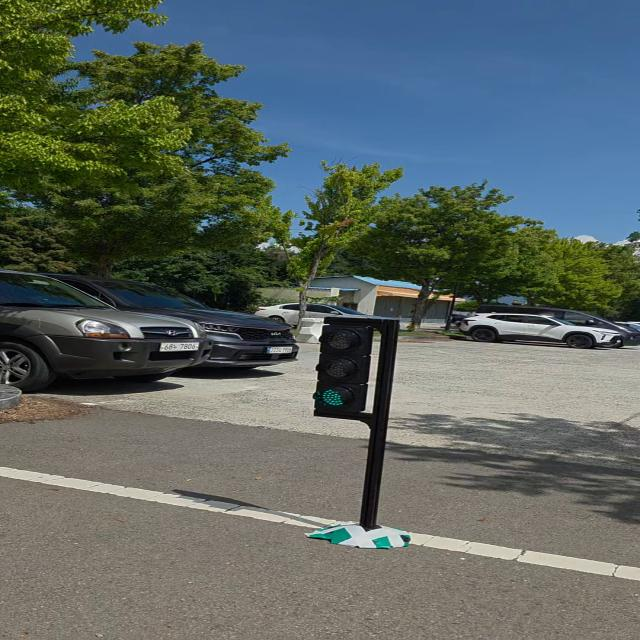green: (311, 318, 382, 420)
